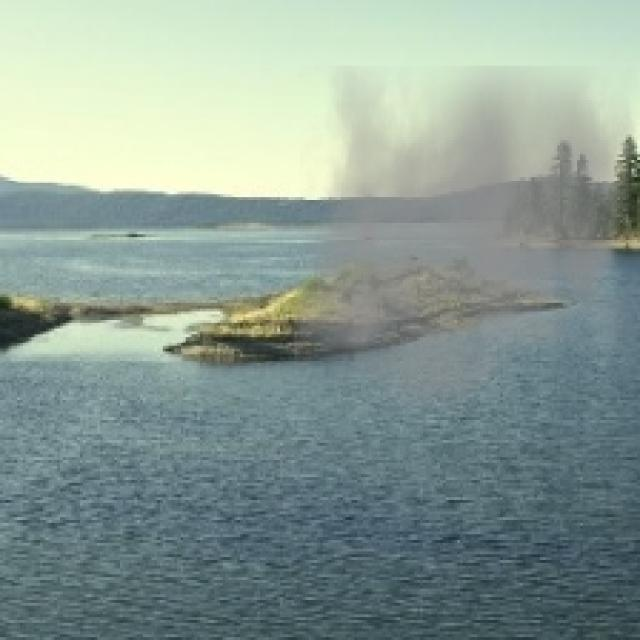smoke: (294, 66, 637, 426)
